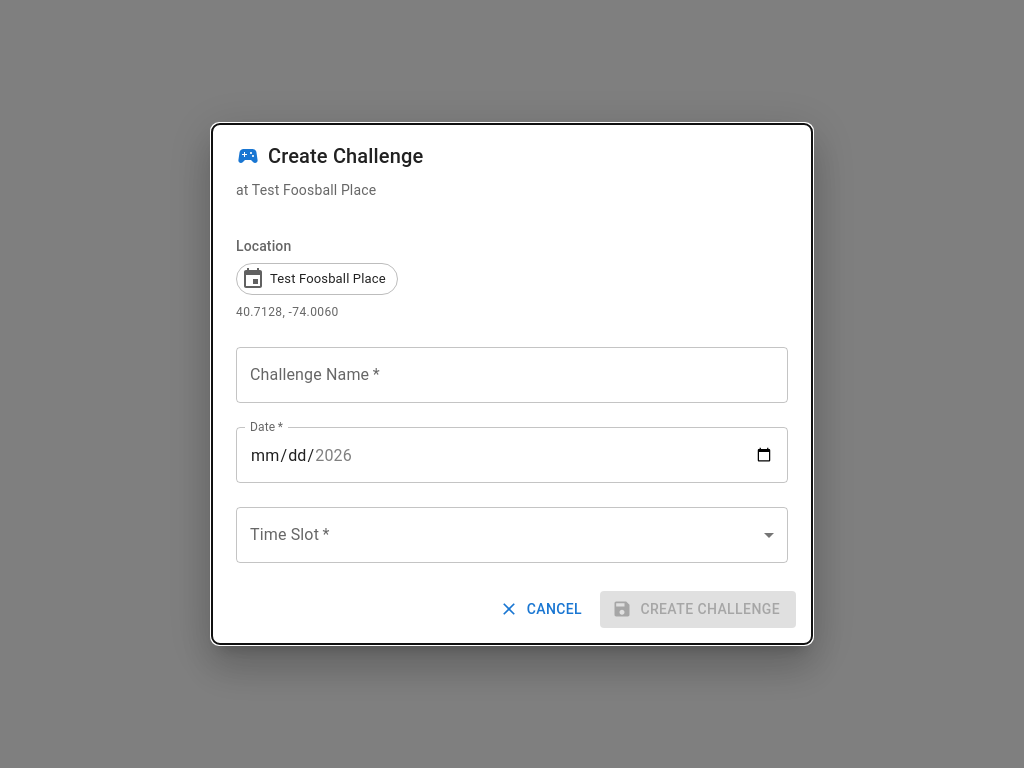
Test: ChallengeForm › Form Validation › Time Slot Validation › should show error for empty time slot
Click the dropdown named "time slot" at (512,535), box [236, 507, 788, 563]
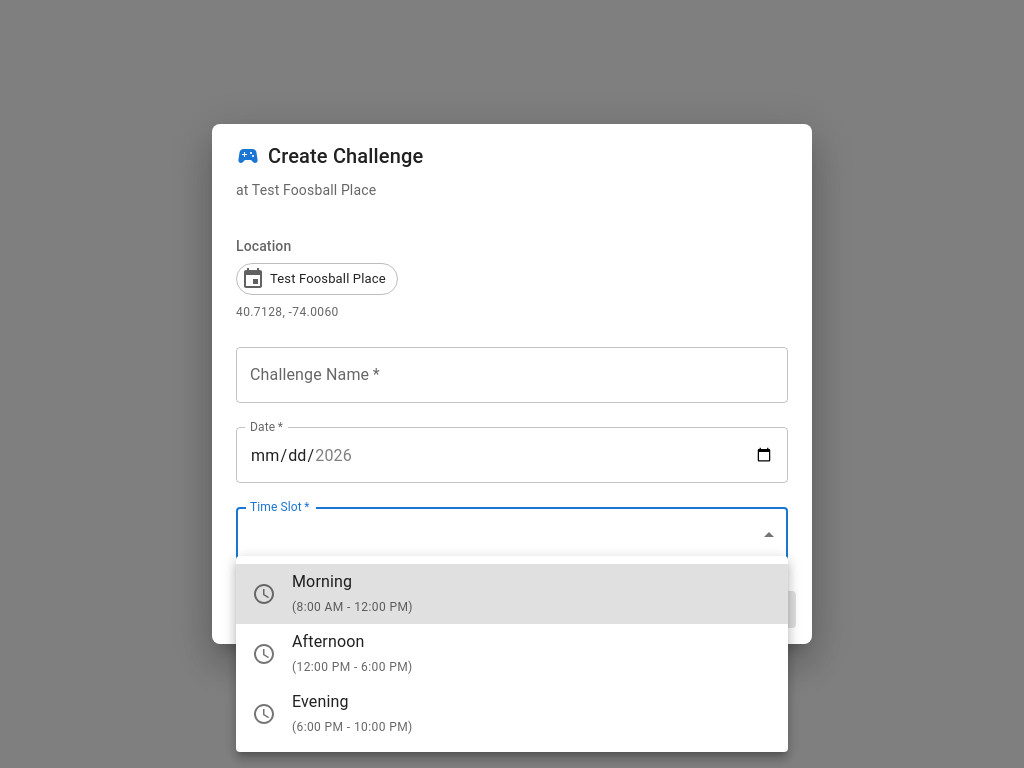
Press Escape
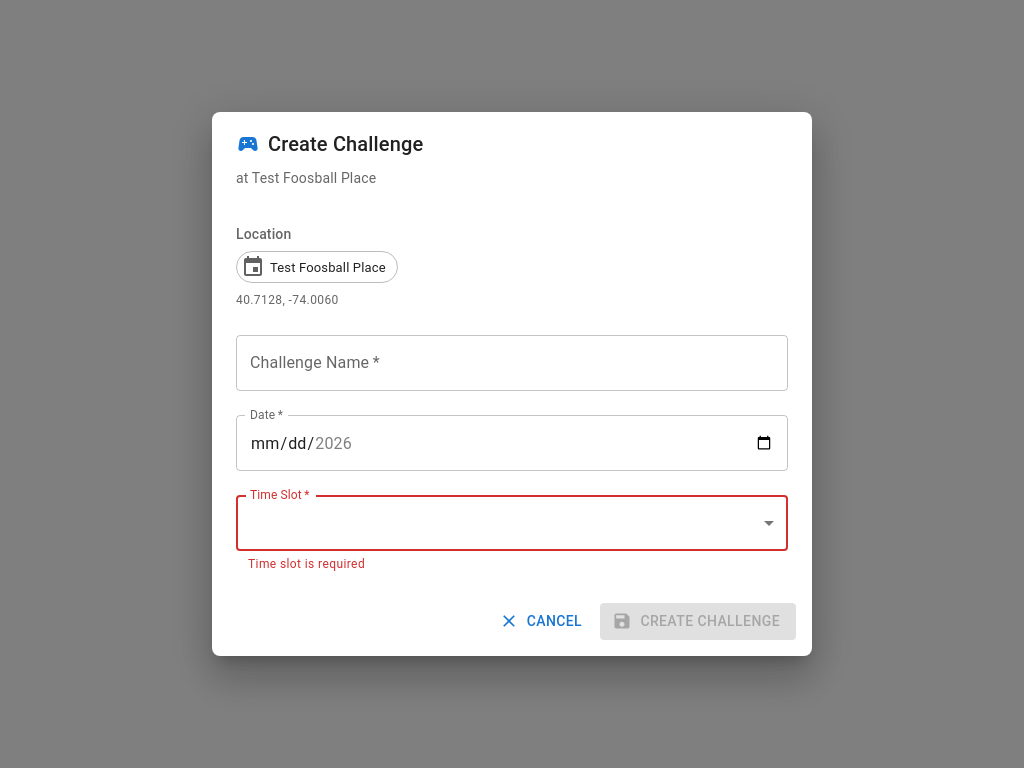
Check: the text "Time slot is required" is shown, box [248, 557, 365, 571]
